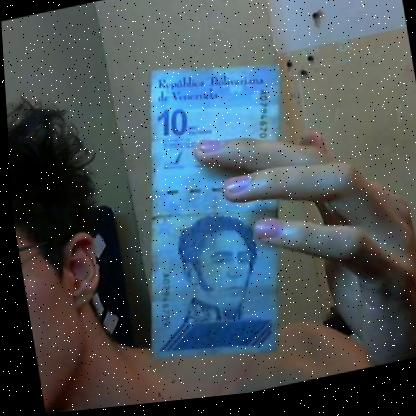vef_front: (103, 50, 321, 383)
